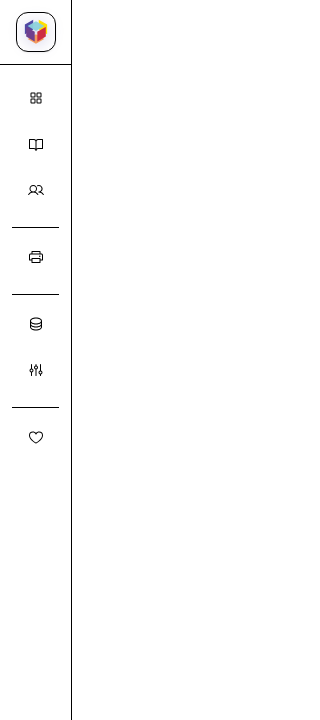
Scenario: Sidebar Navigation & Auto-Collapse UX Refinement › Sidebar Compact Flyout Popover & Logo Toggle Interaction › opens flyout popover when clicking group item with submenus in compact mode
Step 1. Click the button named "Ruang Guru" → click(36, 144), box left=8, top=123, right=63, bottom=165
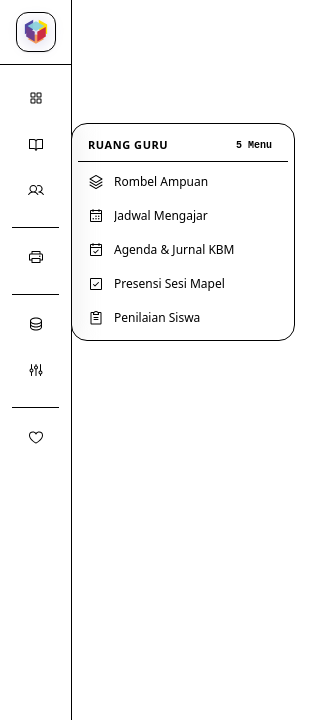
expect the menu with test id "sidebar-flyout-popover" is shown: met, box left=71, top=123, right=295, bottom=341
expect the menu item "Penilaian Siswa" is shown: met
Note: Click sub-item inside popover
Step 2. Click the menu item "Penilaian Siswa" → click(183, 318), box left=78, top=302, right=288, bottom=334
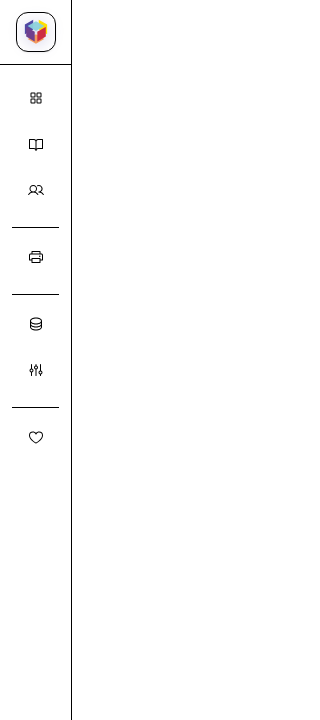
expect the menu with test id "sidebar-flyout-popover" is gone: met
